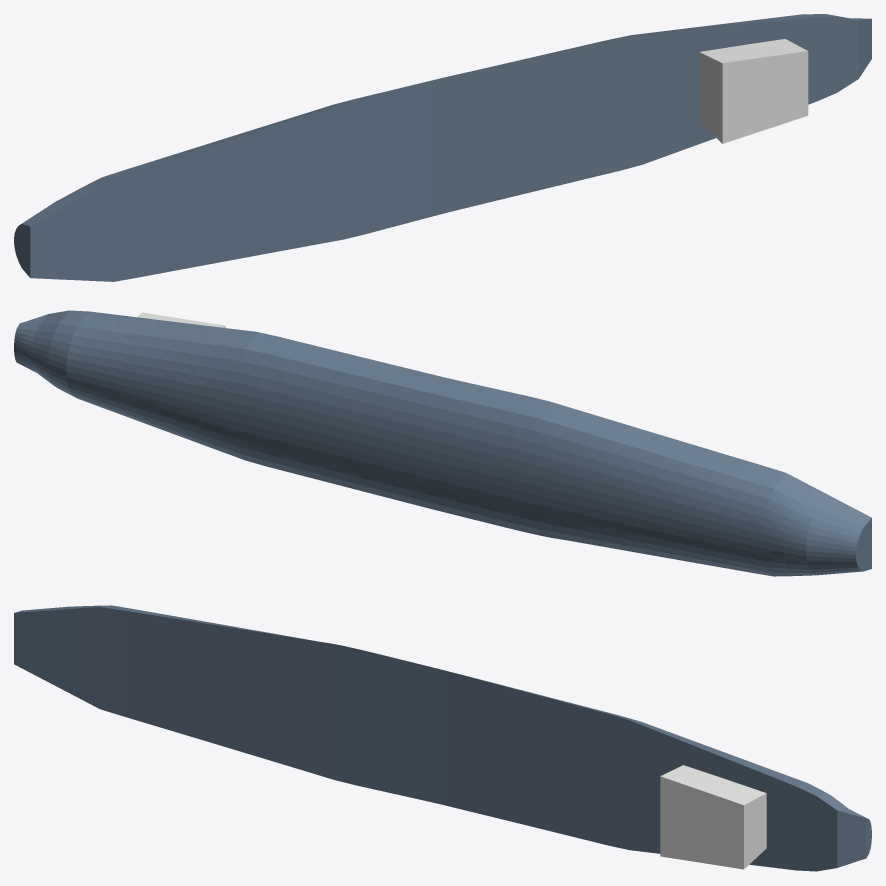
File: loft-dragon-boat-highside.glb
3 renders of one model, top to bottom at view 1: azimuth 30°, elevation 25°; view 2: azimuth 150°, elevation 25°; view 3: azimuth 330°, elevation 25°, orthographic.
Parts seen in each view (by area): view 1: loft-dragon-boat-highside; view 2: loft-dragon-boat-highside; view 3: loft-dragon-boat-highside.
Boxes of the visible parts, box(x1,y1,x2,y2) form: loft-dragon-boat-highside: box(14, 14, 871, 281); loft-dragon-boat-highside: box(14, 310, 871, 576); loft-dragon-boat-highside: box(14, 605, 871, 871).
Bounding box in the file's own units: 1.78 × 0.2754 × 0.169.
